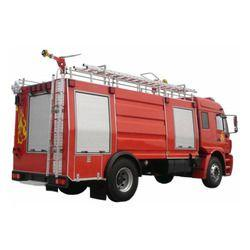Fire-engine: (10, 45, 237, 222)
